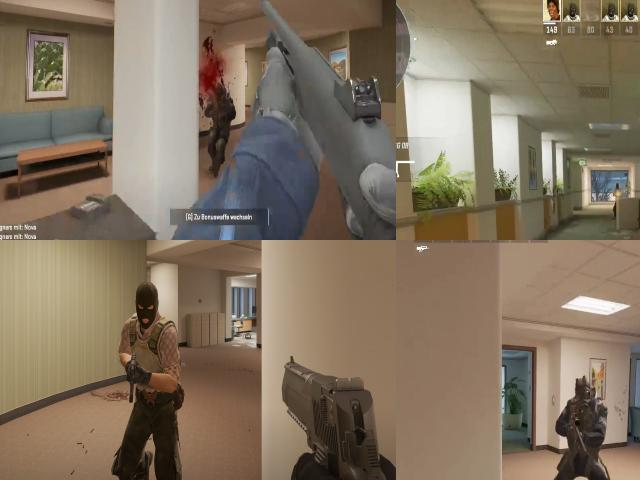CT: (562, 368, 606, 480)
CT-Head: (574, 377, 592, 415)
Dead: (205, 80, 236, 176)
T: (118, 278, 181, 480), (612, 184, 624, 198)
T-Head: (132, 281, 164, 331), (613, 181, 622, 190)
